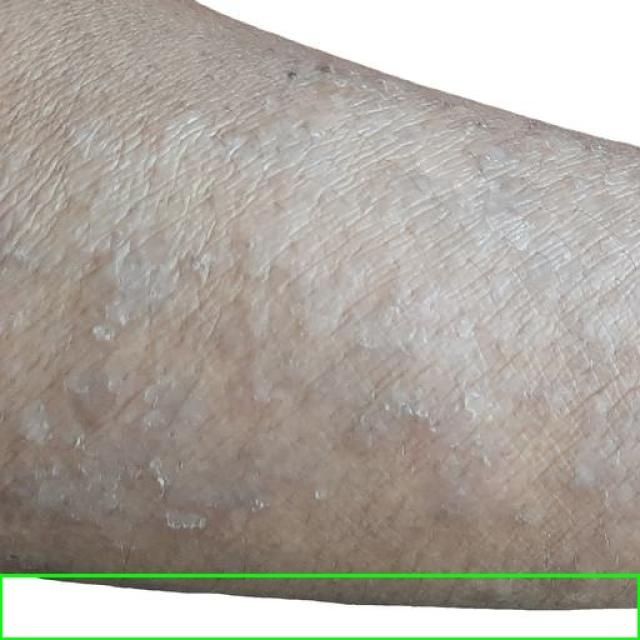Tinea Corporis: (0, 575, 639, 639)
